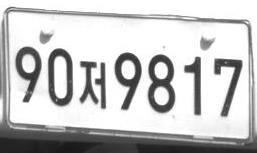0: (47, 47, 73, 107)
1: (181, 55, 209, 115)
7: (213, 58, 243, 117)
8: (147, 53, 176, 113)
9: (113, 51, 142, 110), (14, 45, 42, 103)
저: (78, 60, 106, 109)
